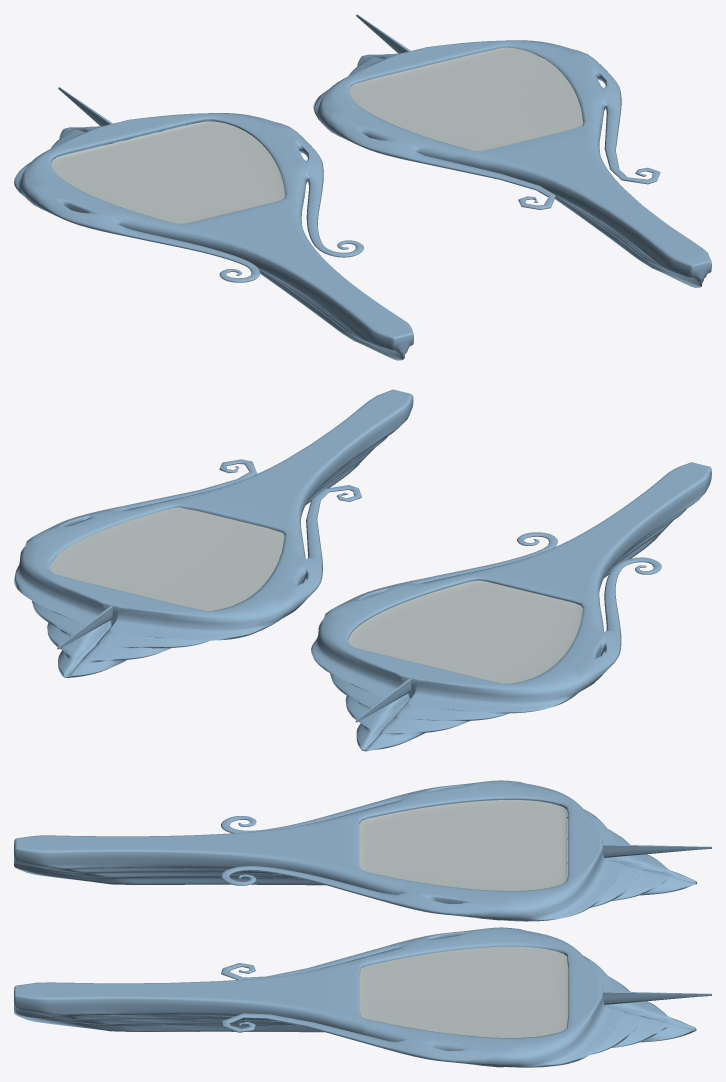
File: papMirrors.fbx
3 renders of one model, top to bottom at view 1: azimuth 30°, elevation 25°; view 2: azimuth 150°, elevation 25°; view 3: azimuth 270°, elevation 25°, orthographic.
Parts seen in each view (by area): view 1: casing, casing1, mirror1, mirror; view 2: casing, casing1, mirror1, mirror; view 3: casing, casing1, mirror1, mirror.
Boxes of the visible parts, x1=… form: casing: x1=14, y1=87, x2=413, y2=360; casing1: x1=313, y1=14, x2=711, y2=287; mirror1: x1=349, y1=47, x2=583, y2=151; mirror: x1=51, y1=121, x2=285, y2=223; casing: x1=311, y1=462, x2=711, y2=751; casing1: x1=14, y1=389, x2=413, y2=677; mirror1: x1=50, y1=507, x2=284, y2=610; mirror: x1=349, y1=580, x2=582, y2=683; casing: x1=14, y1=780, x2=711, y2=921; casing1: x1=14, y1=927, x2=711, y2=1067; mirror1: x1=359, y1=946, x2=568, y2=1037; mirror: x1=359, y1=800, x2=566, y2=890.
Size of the model in its own units: 1.12 by 0.0768 by 1.18.
